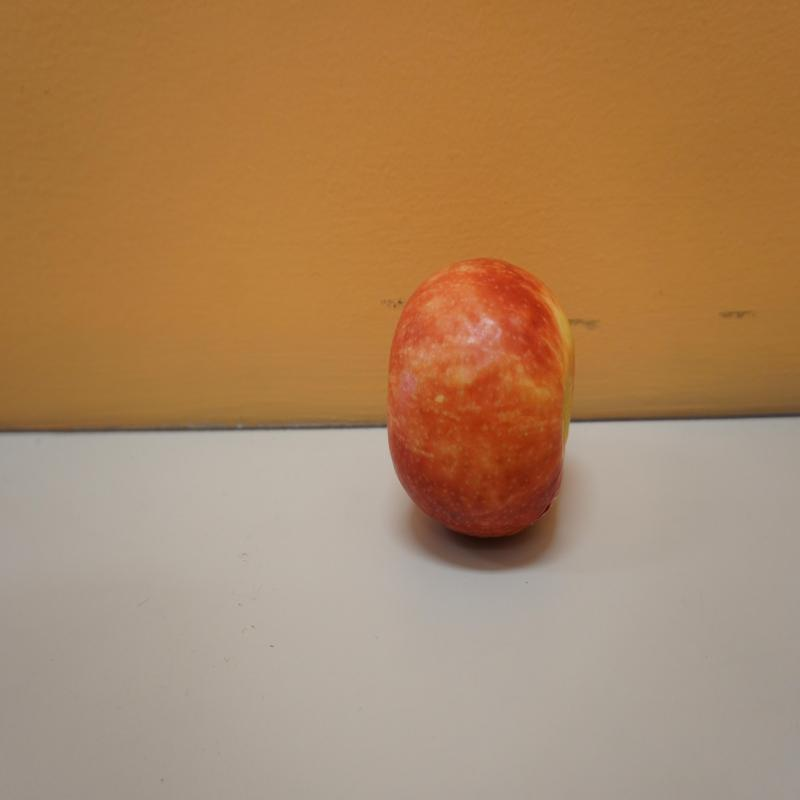Apple: (386, 258, 574, 543)
